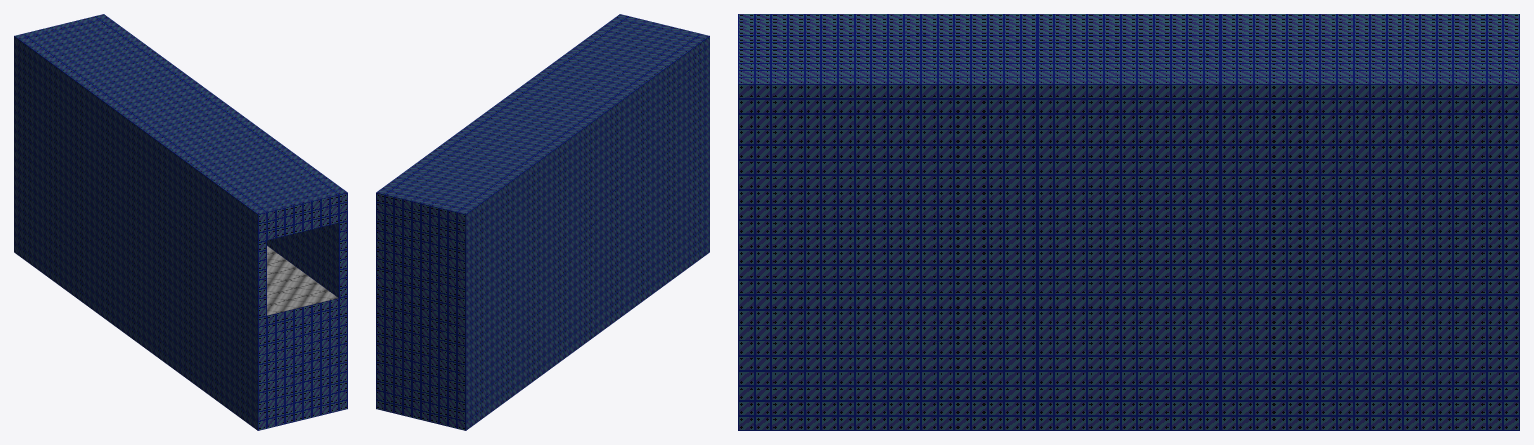
The model's file is level.obj.
The picture shows the model from 3 angles, left to right: view 1: azimuth 30°, elevation 25°; view 2: azimuth 150°, elevation 25°; view 3: azimuth 270°, elevation 25°; orthographic projection. The views are drawn at different scales.
Parts seen in each view (by area): view 1: entity0_brush2, entity0_brush4, entity0_brush1, entity0_brush3, entity0_brush6, entity0_brush5; view 2: entity0_brush2, entity0_brush4, entity0_brush0, entity0_brush5, entity0_brush3; view 3: entity0_brush3, entity0_brush4, entity0_brush2, entity0_brush5.
Boxes of the visible parts, x1,y1,x2,y2 form: entity0_brush2: [14, 34, 266, 430]; entity0_brush4: [28, 20, 338, 221]; entity0_brush1: [267, 246, 338, 428]; entity0_brush3: [95, 14, 347, 410]; entity0_brush6: [267, 204, 338, 240]; entity0_brush5: [23, 16, 99, 37]; entity0_brush2: [457, 34, 709, 430]; entity0_brush4: [390, 16, 700, 208]; entity0_brush0: [385, 298, 456, 428]; entity0_brush5: [385, 191, 461, 315]; entity0_brush3: [376, 14, 628, 410]; entity0_brush3: [738, 77, 1519, 430]; entity0_brush4: [738, 21, 1503, 77]; entity0_brush2: [738, 14, 1519, 20]; entity0_brush5: [1503, 21, 1519, 77].
Bounding box in the file's own units: 160 × 368 × 752.
